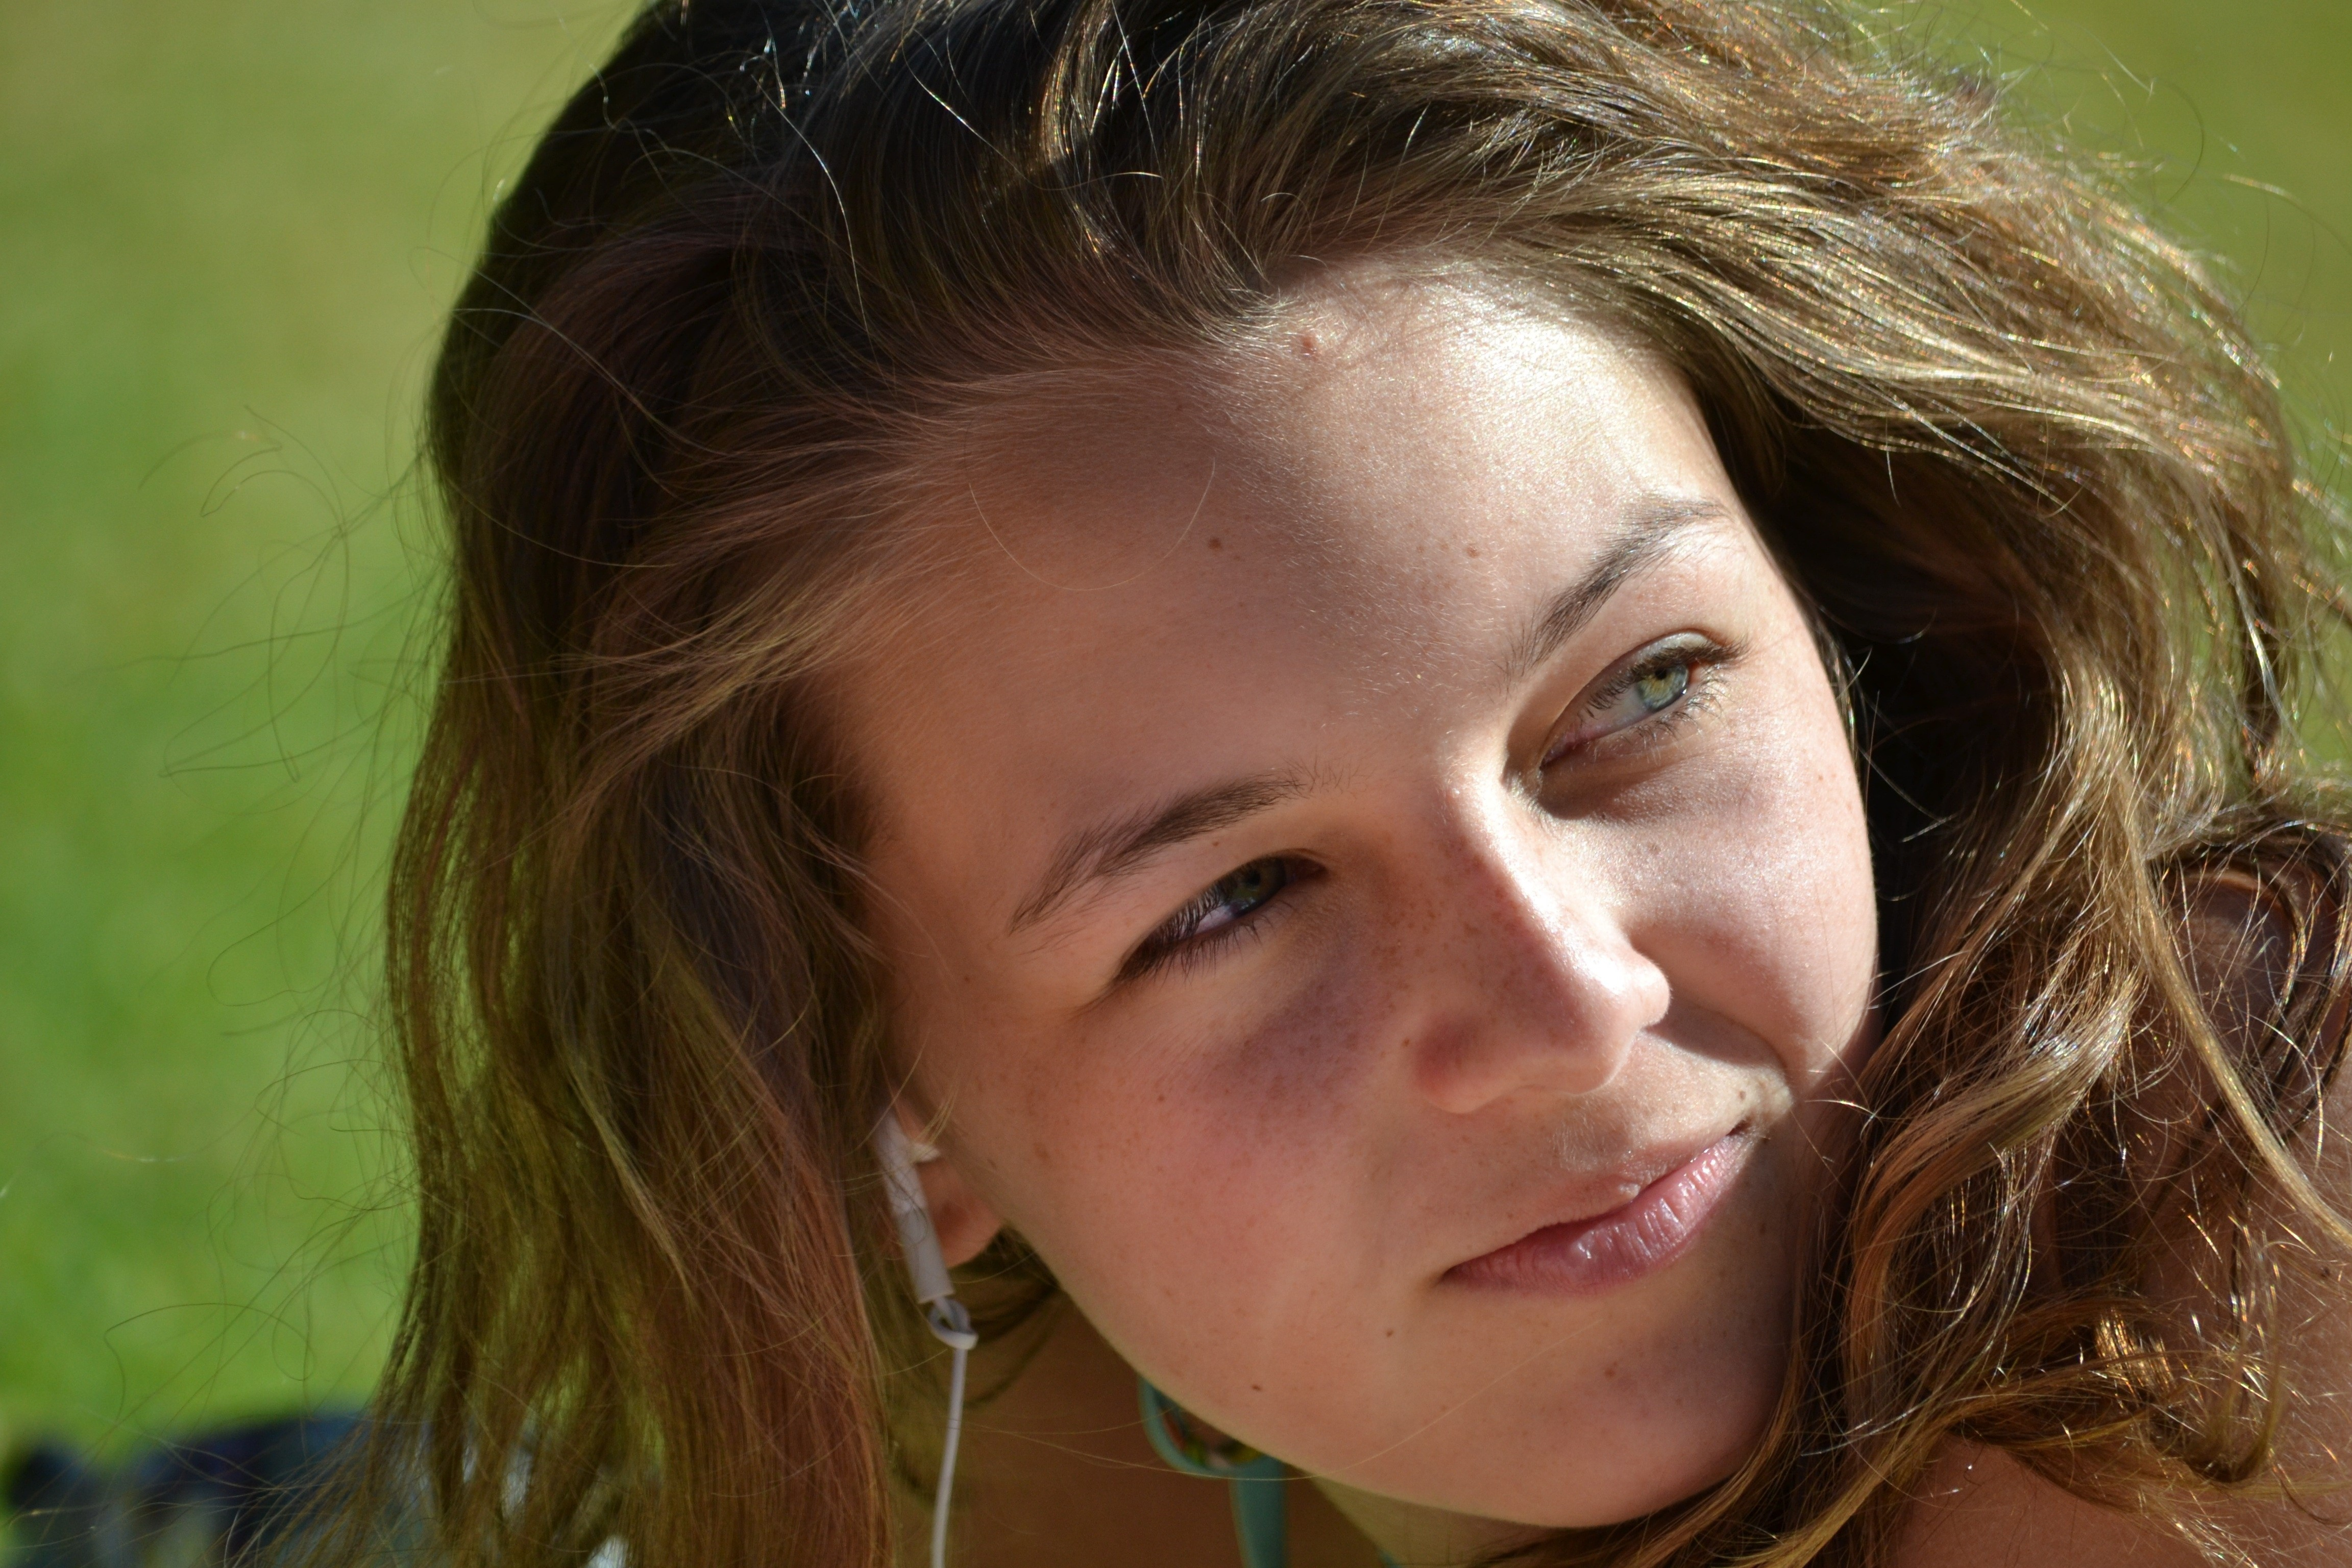face_no_mask: (404, 0, 2225, 1563)
